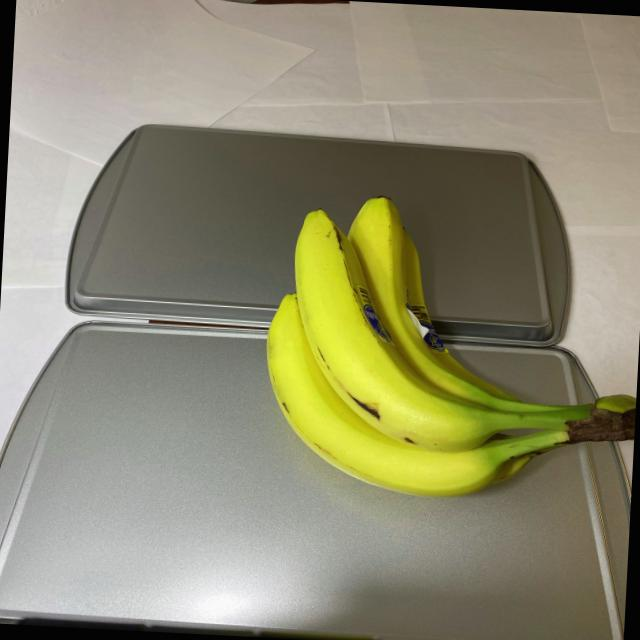banana: (252, 187, 640, 511)
